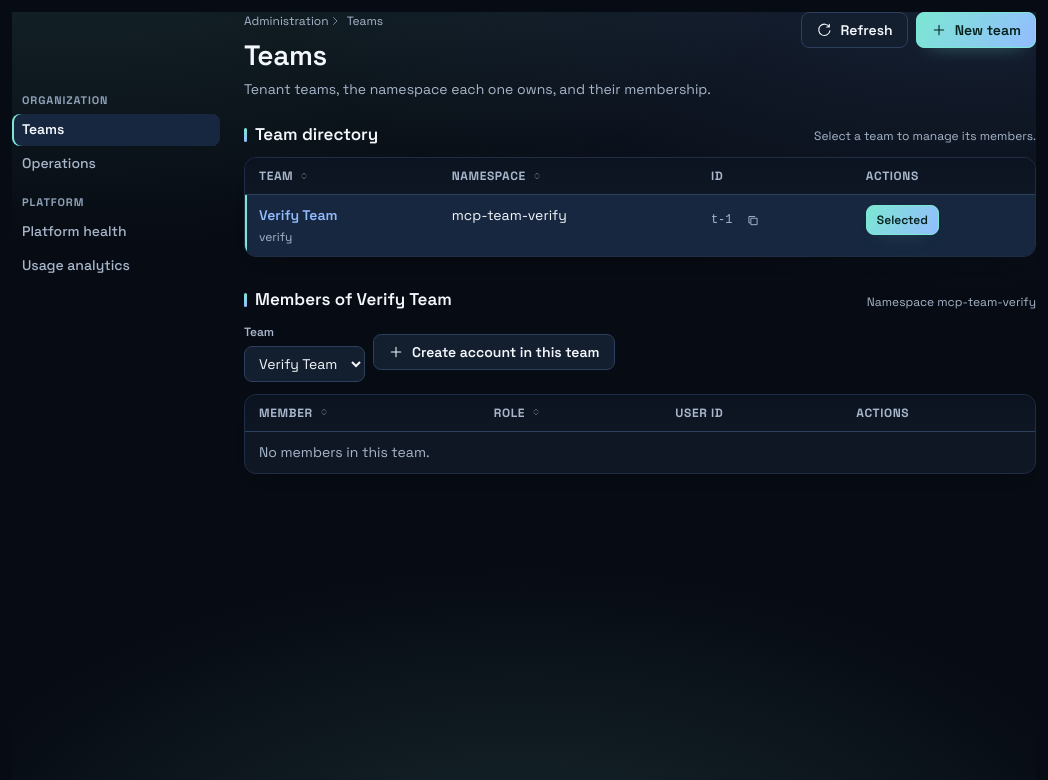
Test case: AdminWorkspace sections › renders platform health and keeps Grafana a plain forward-auth link
This screenshot has width=1048, height=780.
Expected: the table with test id "teams-table" is shown, [245, 158, 1035, 256]
Click the button with test id "admin-section-platform". click: point(116, 232)
box: [12, 216, 220, 248]
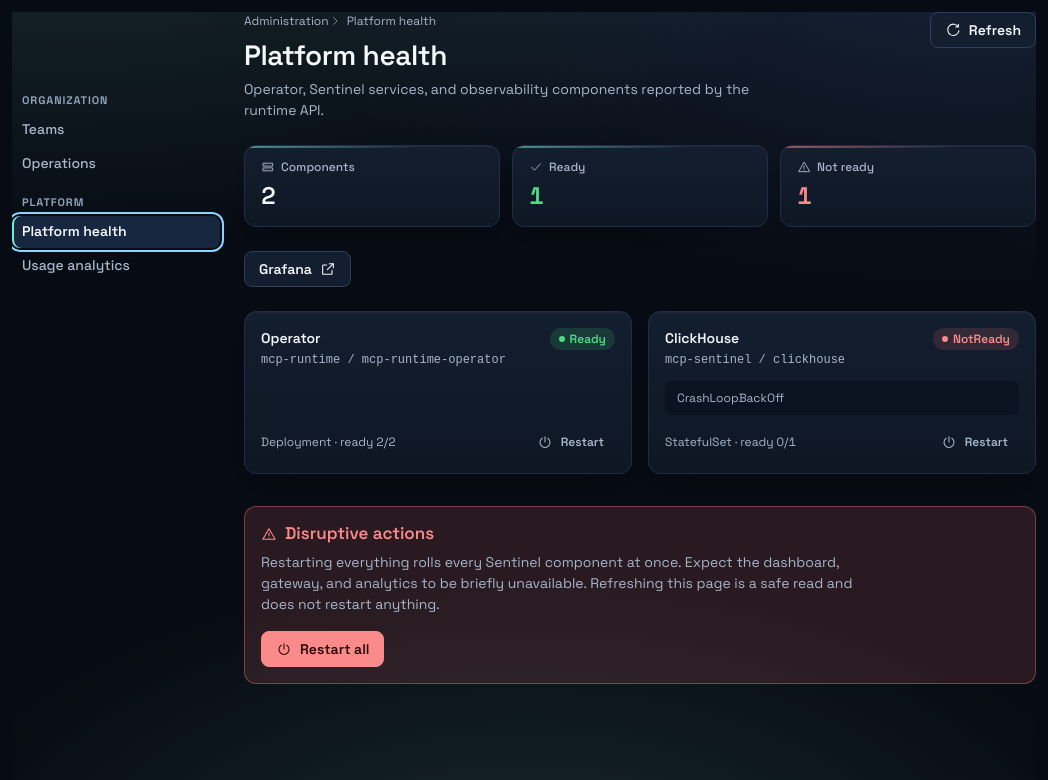
Expected: the text "Operator" is shown, [261, 329, 321, 347]
Expected: the text "CrashLoopBackOff" is shown, [665, 381, 1019, 415]
Expected: the element with test id "platform-stats" shows "1", [529, 180, 544, 211]
